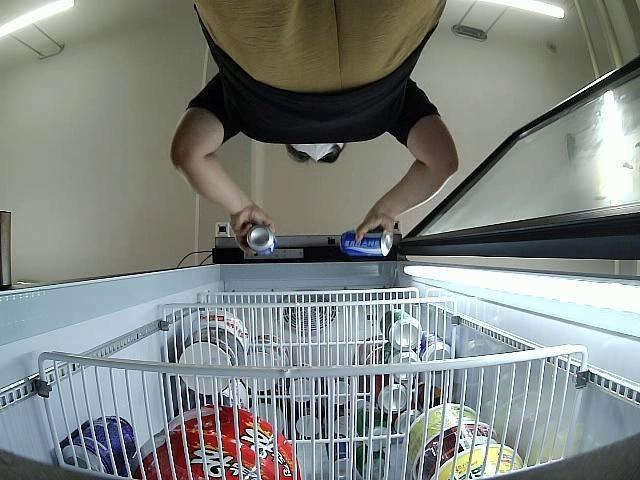13_pocariSweat: (341, 230, 392, 256), (248, 227, 278, 256)
